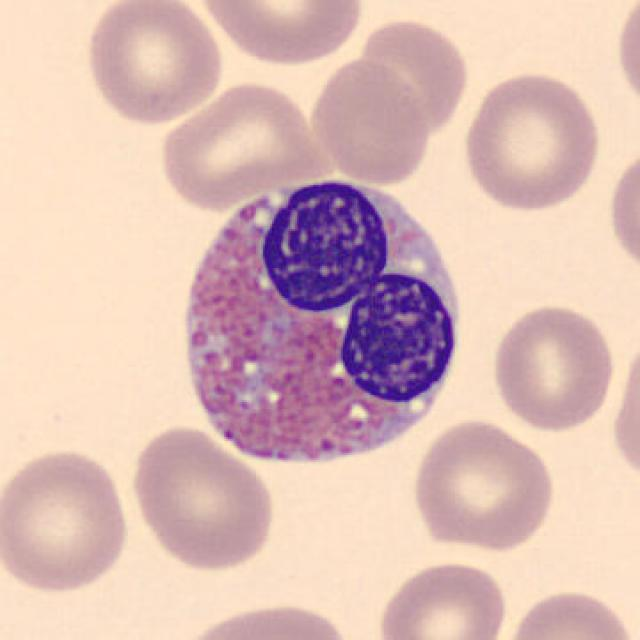Eosinophil: (163, 157, 473, 487)
RBC: (126, 421, 279, 573), (153, 78, 329, 210), (458, 67, 604, 213), (407, 416, 560, 554), (0, 442, 135, 596), (80, 0, 226, 129), (487, 300, 619, 434), (308, 55, 432, 187), (354, 14, 473, 139), (194, 0, 368, 69), (372, 555, 512, 640), (170, 597, 357, 640), (499, 583, 636, 640), (608, 324, 640, 492), (604, 139, 640, 282), (611, 0, 640, 116)
